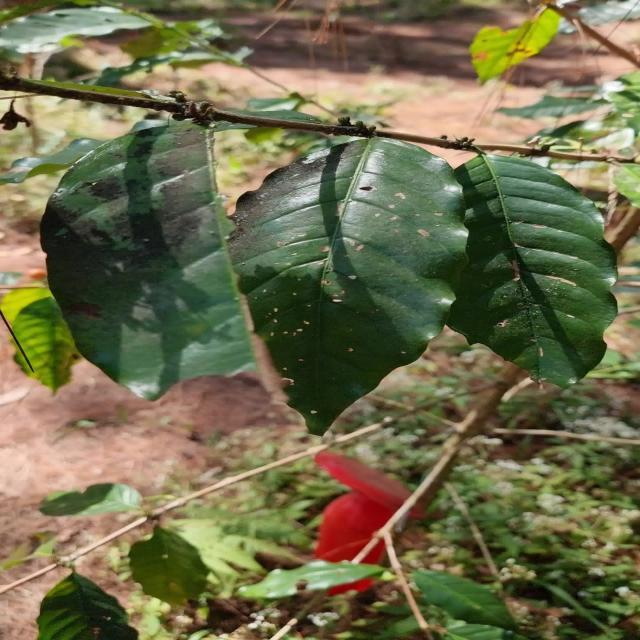leaves: (194, 100, 532, 440), (23, 117, 258, 414), (444, 155, 625, 387)
